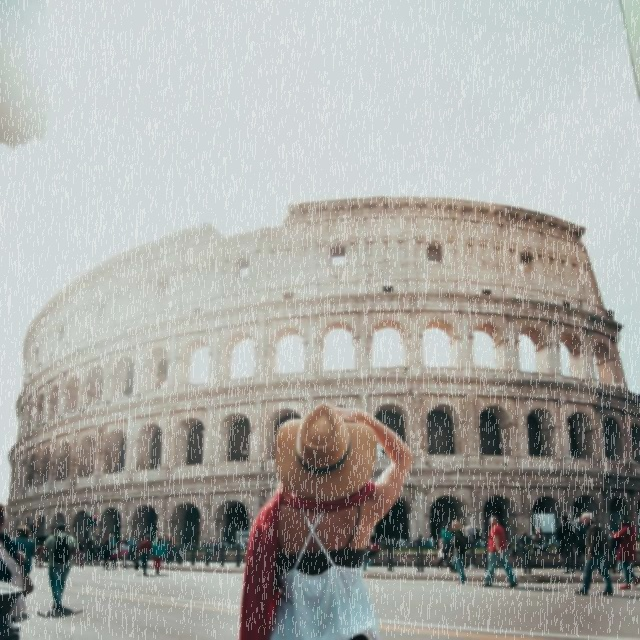pessoa: (236, 396, 414, 640), (37, 522, 84, 610), (474, 529, 639, 552), (572, 510, 614, 598), (1, 502, 27, 640), (478, 514, 520, 588), (610, 514, 640, 591), (553, 514, 578, 574), (447, 520, 469, 585), (10, 526, 36, 576), (460, 522, 482, 570), (436, 521, 454, 571), (570, 510, 588, 558), (136, 534, 154, 576), (517, 530, 534, 574), (150, 536, 168, 575), (364, 534, 382, 568), (36, 608, 86, 620), (530, 526, 550, 552), (100, 538, 113, 570), (118, 538, 130, 570), (84, 534, 97, 562), (108, 543, 120, 569), (75, 540, 83, 566), (381, 536, 397, 548), (126, 532, 137, 548), (437, 538, 445, 560), (432, 536, 441, 554), (417, 534, 425, 554), (423, 538, 433, 554), (167, 533, 178, 546), (152, 534, 162, 548), (91, 533, 102, 545), (208, 538, 215, 556), (398, 536, 407, 550), (429, 535, 436, 552), (162, 532, 170, 546), (199, 540, 207, 554), (223, 540, 234, 550), (79, 537, 86, 552), (109, 534, 117, 547), (212, 538, 218, 554), (217, 540, 223, 556), (240, 540, 248, 551), (410, 538, 418, 548), (98, 537, 104, 548)
